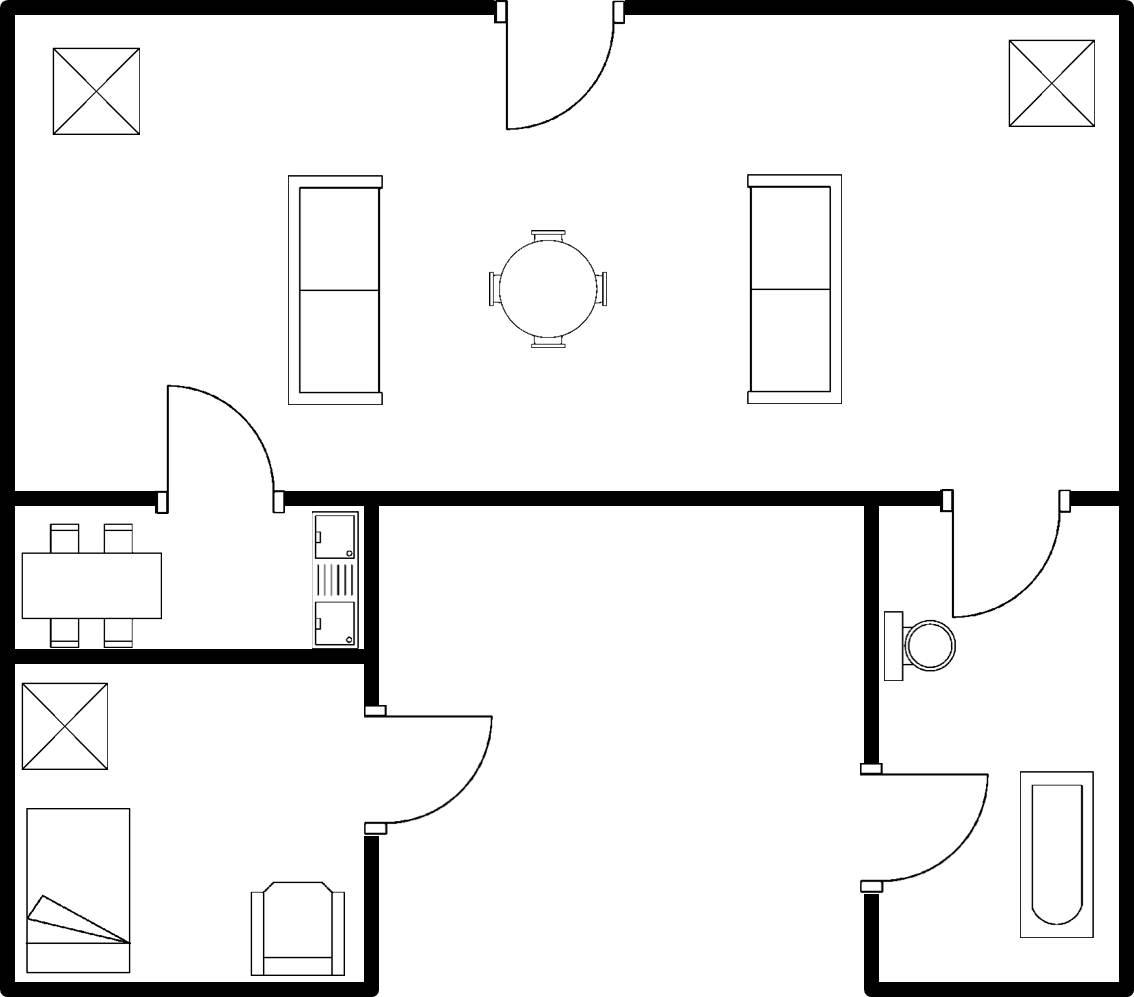sink: (304, 505, 361, 650)
